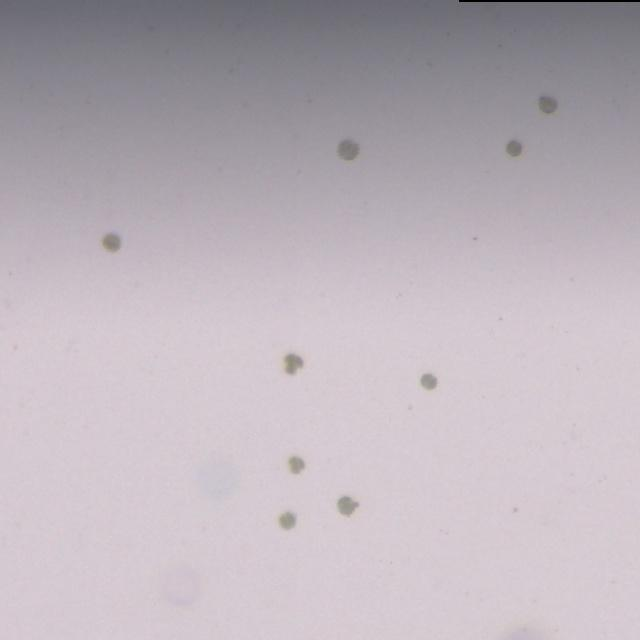non_viable: (337, 139, 359, 161), (337, 496, 358, 516), (283, 354, 303, 374), (538, 96, 557, 114), (102, 233, 120, 252), (288, 456, 305, 472), (420, 373, 436, 389), (279, 513, 295, 529), (505, 141, 521, 155)
